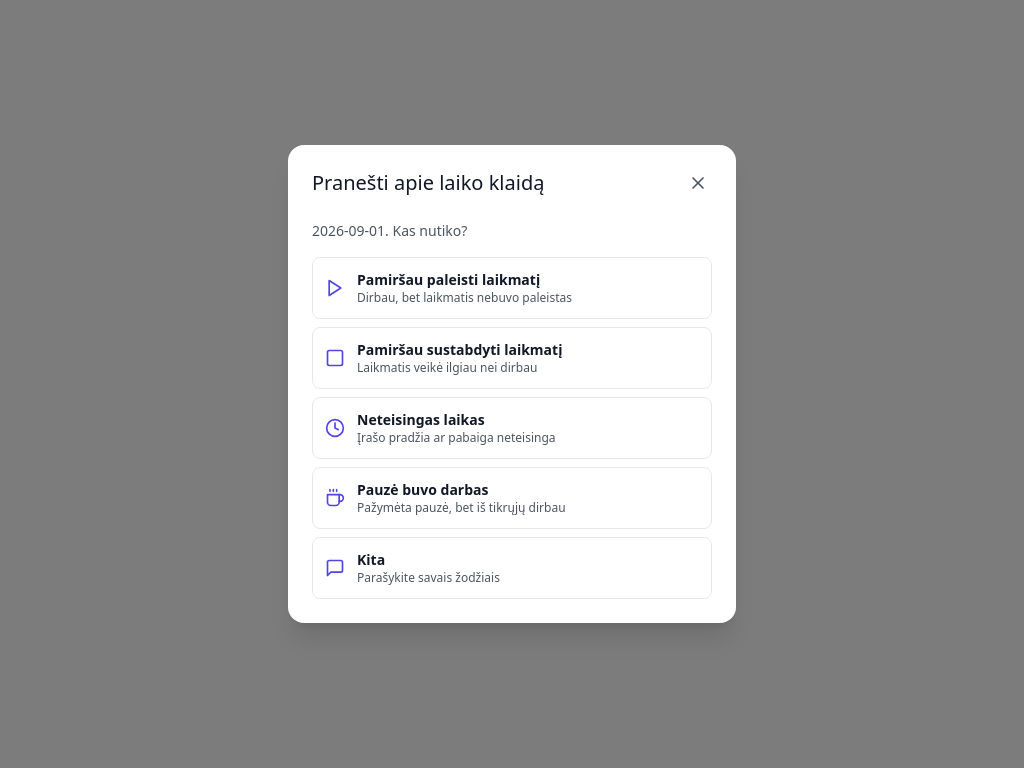
TimeCorrectionSheet › "Pamiršau paleisti" pre-fills the untracked gap and sends it to the managers in two taps
This screenshot has width=1024, height=768.
Step 1. Click the button that starts with "Pamiršau paleisti laikmatį" → (512, 288), box [312,257,712,319]
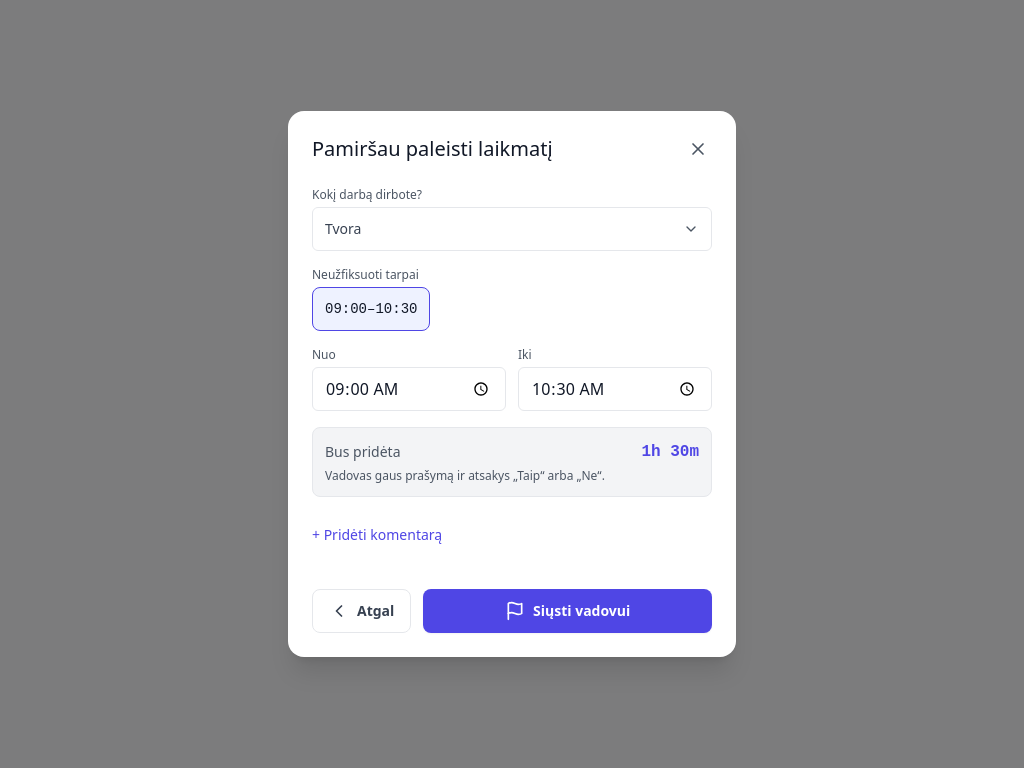
Step 2. Click the button "Siųsti vadovui" → (568, 611), box [423,589,712,633]
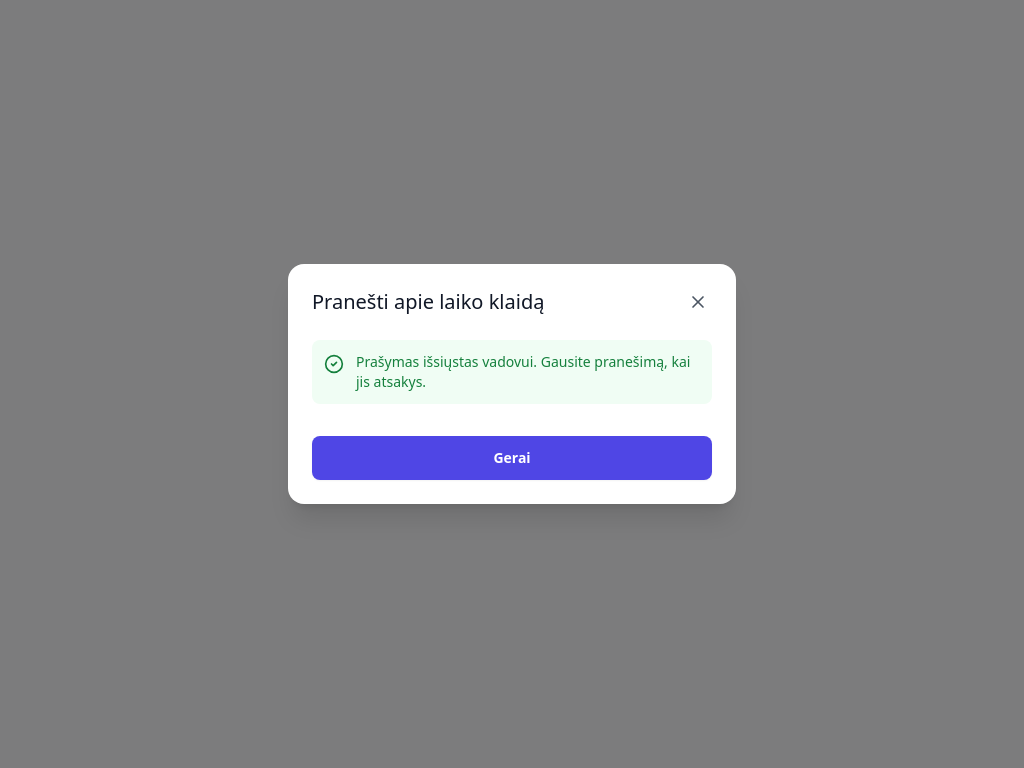
Check: the text "Prašymas išsiųstas vadovui" is shown, box [356,352,690,391]
